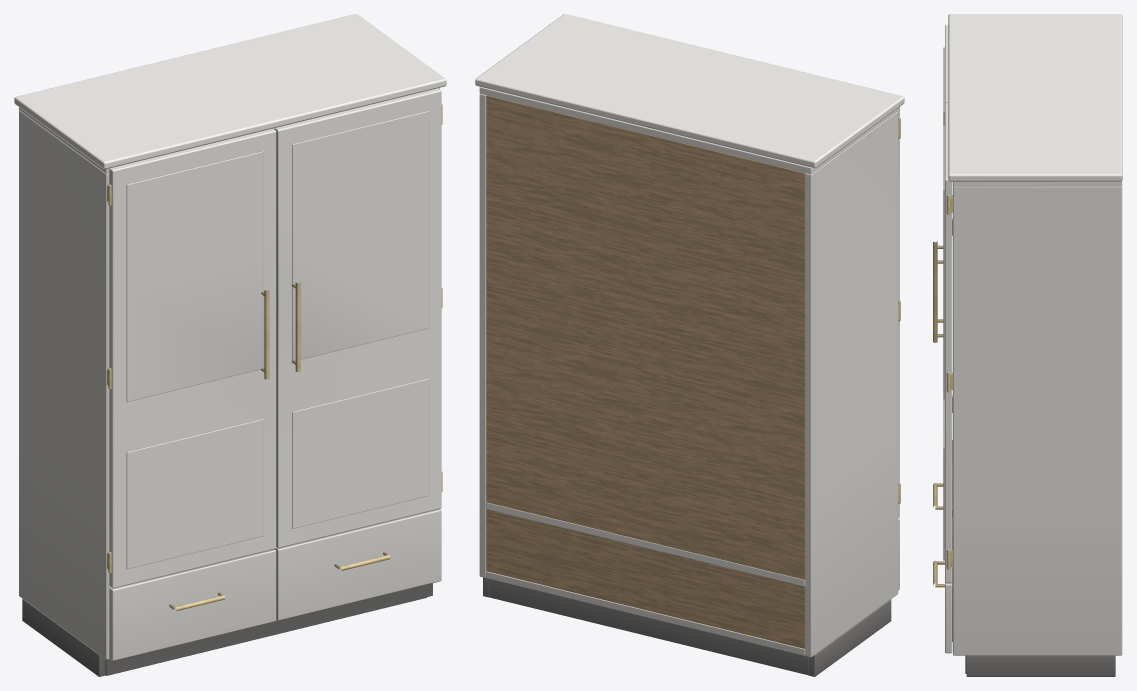
The model's file is int_guarda_roupa.glb.
The picture shows the model from 3 angles, left to right: view 1: azimuth 30°, elevation 25°; view 2: azimuth 150°, elevation 25°; view 3: azimuth 270°, elevation 25°; orthographic projection. The views are drawn at different scales.
Visible parts, largest first — view 1: corpo, porta_E, porta_D, gaveta_E, gaveta_D; view 2: corpo, porta_E; view 3: corpo, porta_D, gaveta_D, porta_E.
Part boxes in pixels (box(x1,y1,x2,y2)): corpo: box(14, 14, 446, 676); porta_E: box(109, 128, 276, 588); porta_D: box(274, 88, 441, 547); gaveta_E: box(109, 549, 276, 660); gaveta_D: box(275, 509, 441, 620); corpo: box(475, 14, 904, 676); porta_E: box(898, 107, 899, 517); corpo: box(946, 14, 1122, 676); porta_D: box(933, 103, 952, 582); gaveta_D: box(933, 517, 952, 653); porta_E: box(933, 25, 948, 322).
Size of the model in its own units: 1.13 by 1.64 by 0.561.
Materials: 4 (4 with a texture image).
